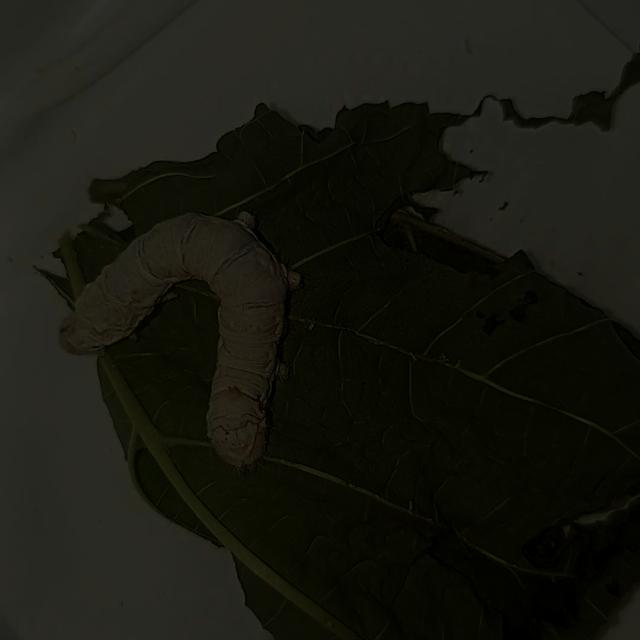Healthy: (27, 186, 360, 504)
